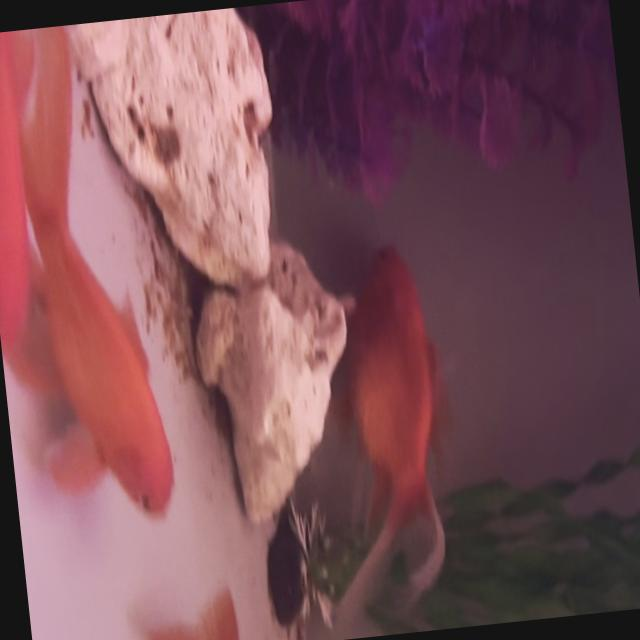fish: (0, 18, 179, 533), (300, 237, 470, 620), (0, 28, 65, 361), (132, 571, 331, 640)
